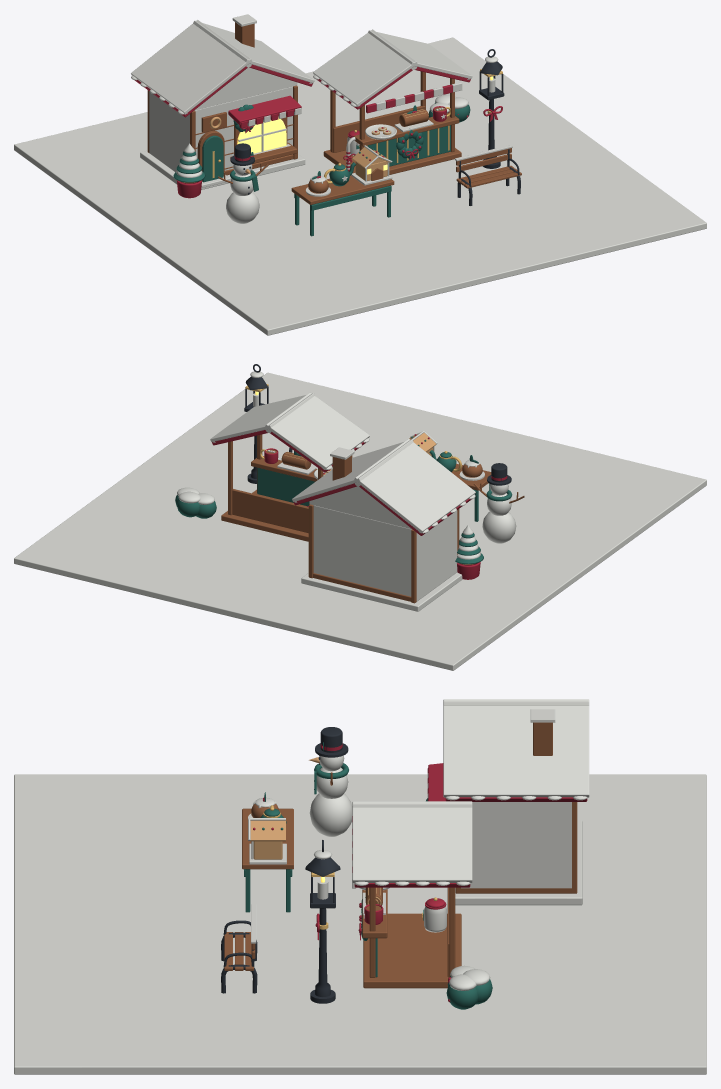
Rendered from christmas-storybook-christmas-bakery-market-a78eca89.glb.
3 renders of one model, top to bottom at view 1: azimuth 30°, elevation 25°; view 2: azimuth 150°, elevation 25°; view 3: azimuth 270°, elevation 25°, orthographic. The views are drawn at different scales.
Visible parts, largest first — view 1: 000-village-snow-foundation/cream, 001-patisserie/cream, 002-market-chalet/cream, 002-market-chalet/oak, 001-patisserie/oak, 001-patisserie/berry, 002-market-chalet/pine, 012-winter-snowman/cream, 013-park-bench/oak, 001-patisserie/light, 002-market-chalet/berry, 006-bakery-serving-table/oak (+4 smaller); view 2: 000-village-snow-foundation/cream, 001-patisserie/cream, 002-market-chalet/cream, 002-market-chalet/oak, 001-patisserie/oak, 012-winter-snowman/cream, 002-market-chalet/pine, 011-ornate-streetlamp/ink, 001-patisserie/berry, 016-snowberry-shrub/pine; view 3: 000-village-snow-foundation/cream, 001-patisserie/cream, 002-market-chalet/cream, 002-market-chalet/oak, 012-winter-snowman/cream, 001-patisserie/oak, 011-ornate-streetlamp/ink, 009-iced-gingerbread-house/biscuit, 006-bakery-serving-table/oak, 001-patisserie/berry, 013-park-bench/oak, 016-snowberry-shrub/pine (+3 smaller).
Boxes of the visible parts, bbox=[...] form: 000-village-snow-foundation/cream: bbox=[14, 37, 706, 335]; 001-patisserie/cream: bbox=[131, 14, 314, 189]; 002-market-chalet/cream: bbox=[313, 29, 472, 110]; 002-market-chalet/oak: bbox=[323, 71, 461, 174]; 001-patisserie/oak: bbox=[147, 22, 297, 181]; 001-patisserie/berry: bbox=[135, 64, 312, 133]; 002-market-chalet/pine: bbox=[367, 125, 450, 166]; 012-winter-snowman/cream: bbox=[226, 164, 259, 223]; 013-park-bench/oak: bbox=[456, 148, 521, 188]; 001-patisserie/light: bbox=[237, 117, 286, 153]; 002-market-chalet/berry: bbox=[317, 67, 470, 159]; 006-bakery-serving-table/oak: bbox=[291, 172, 394, 204]; 000-village-snow-foundation/cream: bbox=[14, 372, 706, 670]; 001-patisserie/cream: bbox=[292, 438, 475, 611]; 002-market-chalet/cream: bbox=[210, 392, 369, 469]; 002-market-chalet/oak: bbox=[221, 434, 352, 541]; 001-patisserie/oak: bbox=[308, 455, 459, 603]; 012-winter-snowman/cream: bbox=[482, 484, 516, 543]; 002-market-chalet/pine: bbox=[257, 467, 314, 506]; 011-ornate-streetlamp/ink: bbox=[244, 364, 268, 483]; 001-patisserie/berry: bbox=[293, 483, 471, 535]; 016-snowberry-shrub/pine: bbox=[175, 495, 216, 518]; 000-village-snow-foundation/cream: bbox=[14, 774, 706, 1074]; 001-patisserie/cream: bbox=[427, 699, 589, 905]; 002-market-chalet/cream: bbox=[352, 801, 472, 888]; 002-market-chalet/oak: bbox=[362, 887, 461, 988]; 012-winter-snowman/cream: bbox=[309, 755, 352, 836]; 001-patisserie/oak: bbox=[455, 722, 577, 893]; 011-ornate-streetlamp/ink: bbox=[305, 840, 340, 1003]; 009-iced-gingerbread-house/biscuit: bbox=[250, 820, 285, 859]; 006-bakery-serving-table/oak: bbox=[242, 808, 293, 869]; 001-patisserie/berry: bbox=[427, 763, 587, 801]; 013-park-bench/oak: bbox=[224, 932, 255, 970]; 016-snowberry-shrub/pine: bbox=[446, 976, 492, 1009].
Size of the model in its own units: 12 by 3.48 by 12.
